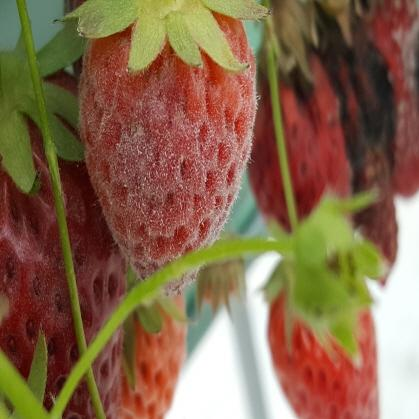Powdery Mildew Fruit: (74, 0, 257, 299), (0, 64, 127, 418)
